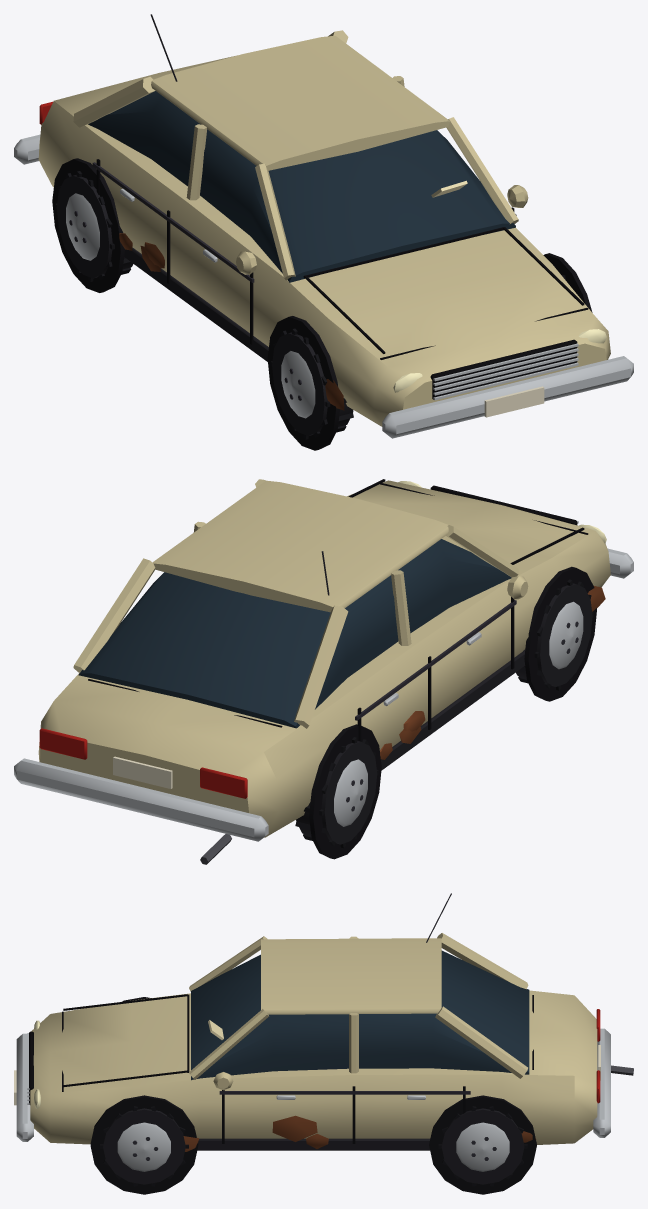
File: car_parked_cream.glb
3 renders of one model, top to bottom at view 1: azimuth 30°, elevation 25°; view 2: azimuth 150°, elevation 25°; view 3: azimuth 270°, elevation 25°, orthographic. The views are drawn at different scales.
Parts seen in each view (by area): view 1: car_parked_cream; view 2: car_parked_cream; view 3: car_parked_cream.
Part boxes in pixels (x1=…): car_parked_cream: x1=14, y1=14, x2=633, y2=450; car_parked_cream: x1=14, y1=479, x2=633, y2=864; car_parked_cream: x1=14, y1=893, x2=633, y2=1194.
Bounding box in the file's own units: 2.06 × 1.92 × 4.94.
